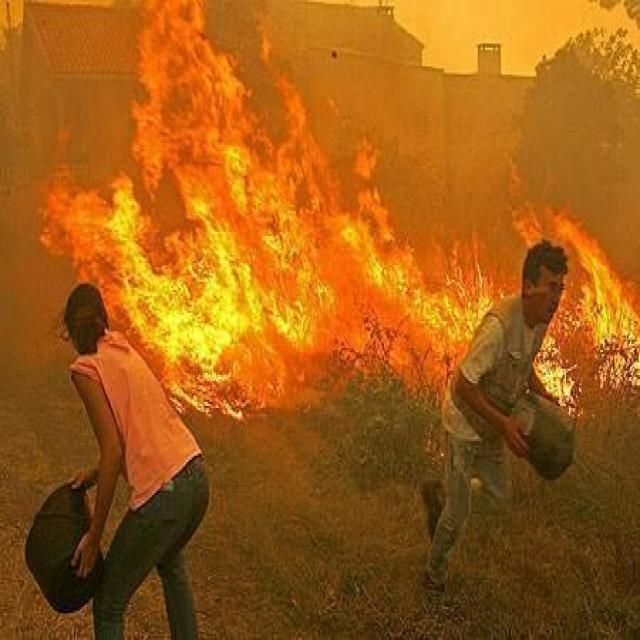fire: (78, 181, 447, 412), (106, 0, 355, 186), (565, 241, 640, 379)
